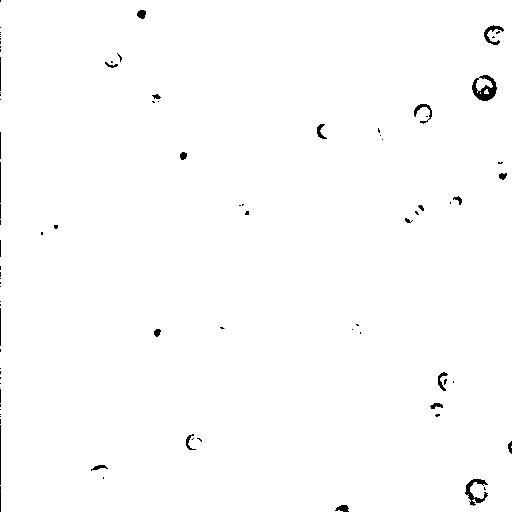micro-algae: (286, 199, 420, 327), (405, 365, 511, 499), (11, 15, 77, 83), (68, 1, 133, 62), (457, 427, 507, 479), (413, 191, 462, 239), (139, 315, 173, 348), (395, 201, 429, 233), (125, 1, 159, 31), (9, 63, 41, 94), (463, 477, 493, 505), (31, 236, 60, 264), (118, 337, 147, 365), (471, 72, 497, 103), (227, 197, 259, 222), (171, 141, 197, 169), (374, 117, 400, 145), (342, 311, 365, 340), (85, 463, 111, 487), (38, 215, 64, 238), (484, 24, 509, 47), (488, 161, 511, 185), (316, 121, 337, 141), (413, 103, 433, 124), (103, 48, 123, 67), (184, 433, 204, 451), (439, 373, 457, 391), (428, 401, 443, 417), (447, 196, 463, 209), (331, 501, 351, 511), (504, 436, 511, 457)
